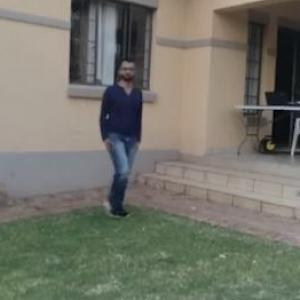follow: (89, 60, 141, 215)
